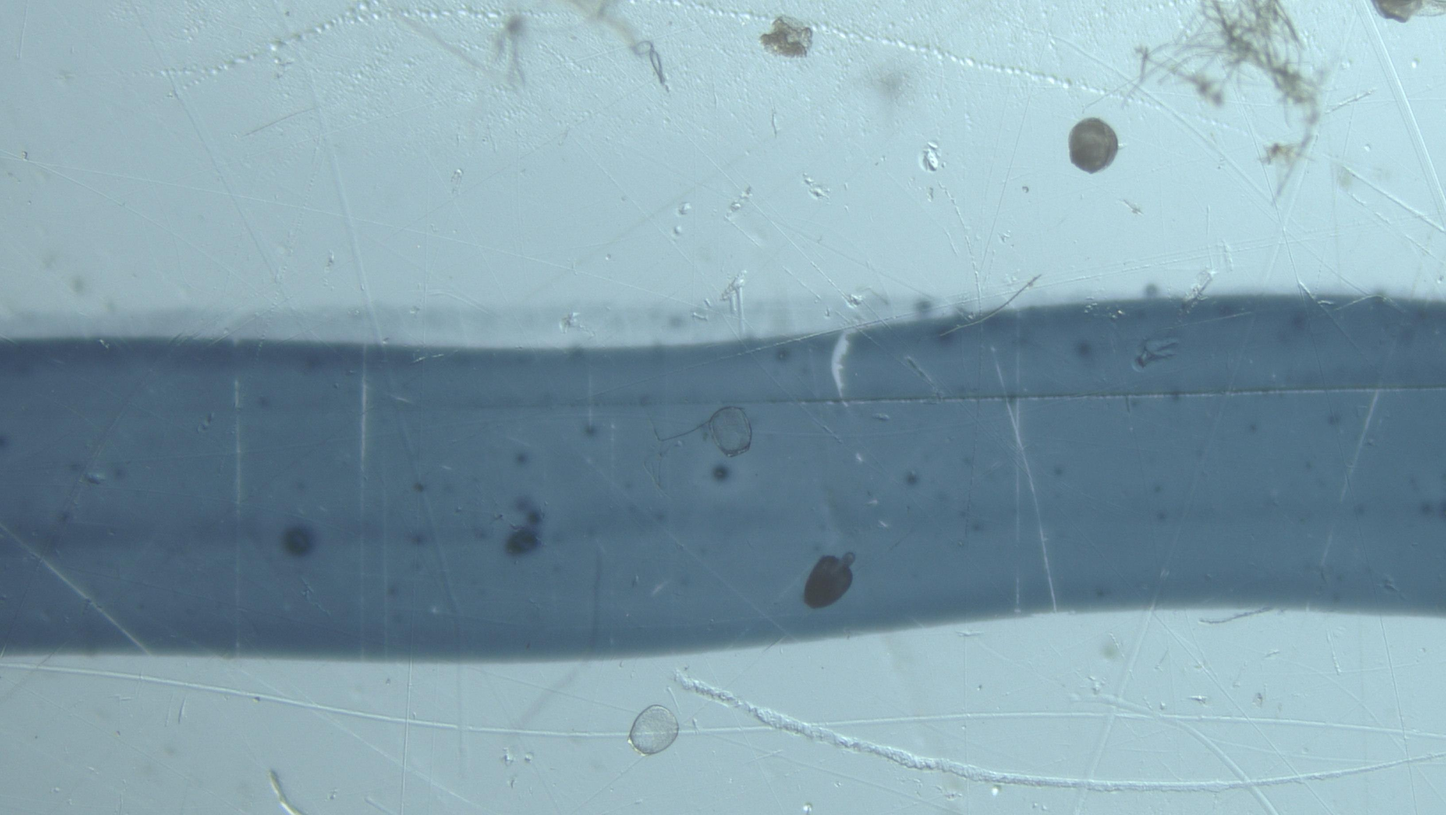dead: (629, 705, 680, 755), (709, 407, 752, 458)
live: (803, 552, 856, 609), (1069, 118, 1119, 174)
